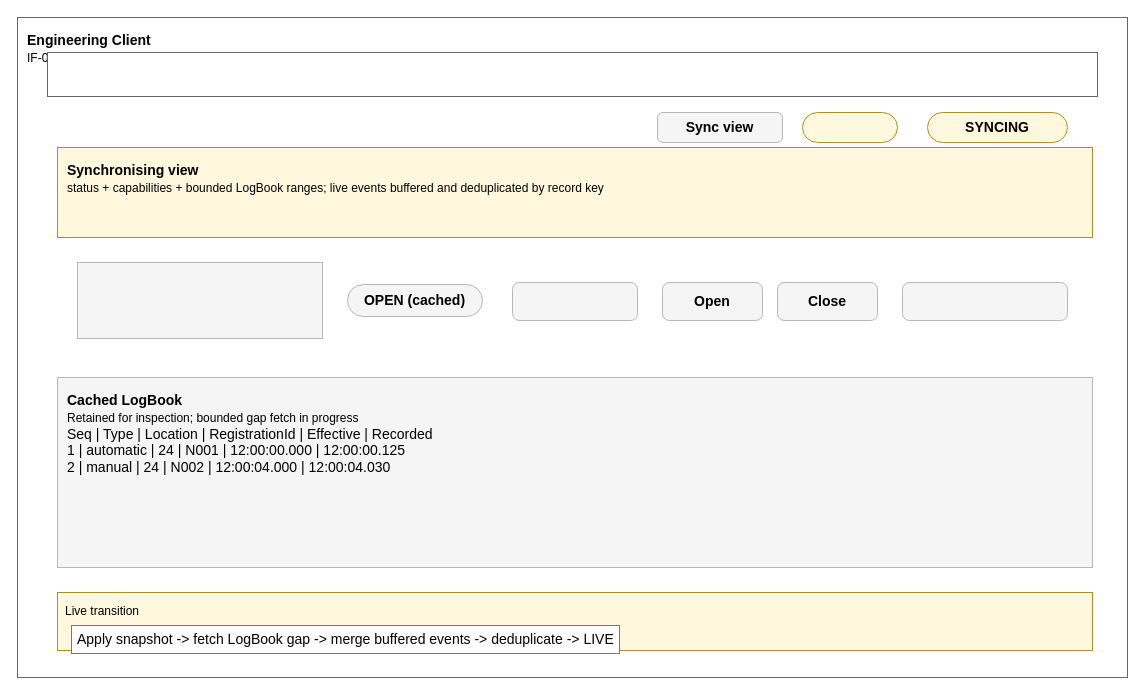
The diagram is 1145 pixels wide and 695 high, and some of its shapes have lost their labels. Each missing label, with the box of its shape:
Auto-reg: (902, 282, 1068, 320)
LocationId 24 (cached): (76, 262, 322, 338)
Set location: (512, 282, 638, 320)
STALE: (802, 112, 898, 142)
Status | Events | Timing | Terminal | Logs: (46, 52, 1098, 96)
